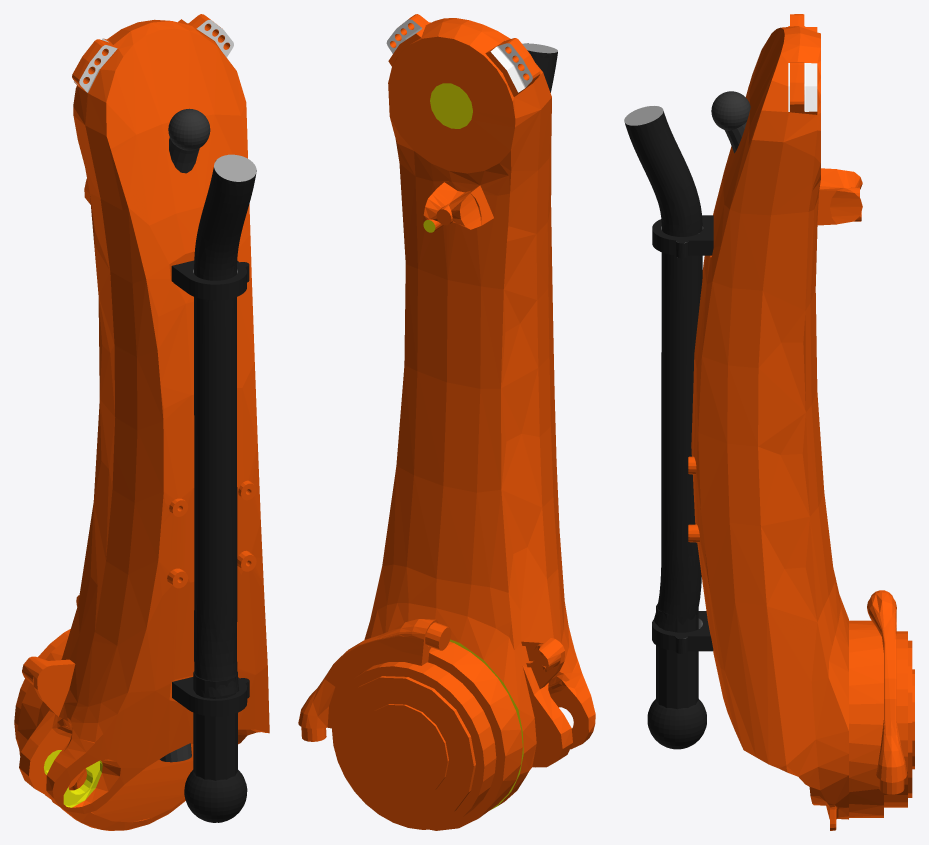
3 renders of one model, left to right at view 1: azimuth 30°, elevation 25°; view 2: azimuth 150°, elevation 25°; view 3: azimuth 270°, elevation 25°, orthographic. The views are drawn at different scales.
Visible parts, largest first — view 1: link_2, Default_1_ez.rf_ez_a2_2.3ds_ez_a2_2.3ds_schlauch_ext_A2_long, _ez_a2_2.3ds_schlauch_ext_A2_long.3ds, Default_28_ez.rf_ez_a2_2.3ds_ez_a2_2.3ds_schlauch_ext_A2_lon, Default_20_ez.rf_ez_a2_2.3ds_ez_a2_2.3ds_schlauch_ext_A2_lon, Default_11_ez.rf_ez_a2_2.3ds_ez_a2_2.3ds_schlauch_ext_A2_lon, Default_16_ez.rf_ez_a2_2.3ds_ez_a2_2.3ds_schlauch_ext_A2_lon, Default_23_ez.rf_ez_a2_2.3ds_ez_a2_2.3ds_schlauch_ext_A2_lon, Default_7_ez.rf_ez_a2_2.3ds_ez_a2_2.3ds_schlauch_ext_A2_long; view 2: link_2, Default_1_ez.rf_ez_a2_2.3ds_ez_a2_2.3ds_schlauch_ext_A2_long; view 3: link_2, Default_1_ez.rf_ez_a2_2.3ds_ez_a2_2.3ds_schlauch_ext_A2_long, _ez_a2_2.3ds_schlauch_ext_A2_long.3ds, Default_28_ez.rf_ez_a2_2.3ds_ez_a2_2.3ds_schlauch_ext_A2_lon, Default_20_ez.rf_ez_a2_2.3ds_ez_a2_2.3ds_schlauch_ext_A2_lon, Default_11_ez.rf_ez_a2_2.3ds_ez_a2_2.3ds_schlauch_ext_A2_lon, Default_16_ez.rf_ez_a2_2.3ds_ez_a2_2.3ds_schlauch_ext_A2_lon.
Part boxes in pixels (left/top/right/bottom): link_2: left=14, top=14, right=269, bottom=830; Default_1_ez.rf_ez_a2_2.3ds_ez_a2_2.3ds_schlauch_ext_A2_long: left=194, top=167, right=256, bottom=697; _ez_a2_2.3ds_schlauch_ext_A2_long.3ds: left=193, top=671, right=237, bottom=780; Default_28_ez.rf_ez_a2_2.3ds_ez_a2_2.3ds_schlauch_ext_A2_lon: left=184, top=770, right=247, bottom=822; Default_20_ez.rf_ez_a2_2.3ds_ez_a2_2.3ds_schlauch_ext_A2_lon: left=171, top=262, right=249, bottom=300; Default_11_ez.rf_ez_a2_2.3ds_ez_a2_2.3ds_schlauch_ext_A2_lon: left=172, top=678, right=249, bottom=716; Default_16_ez.rf_ez_a2_2.3ds_ez_a2_2.3ds_schlauch_ext_A2_lon: left=172, top=260, right=249, bottom=284; Default_23_ez.rf_ez_a2_2.3ds_ez_a2_2.3ds_schlauch_ext_A2_lon: left=214, top=154, right=254, bottom=181; Default_7_ez.rf_ez_a2_2.3ds_ez_a2_2.3ds_schlauch_ext_A2_long: left=172, top=677, right=249, bottom=700; link_2: left=298, top=14, right=595, bottom=830; Default_1_ez.rf_ez_a2_2.3ds_ez_a2_2.3ds_schlauch_ext_A2_long: left=527, top=43, right=557, bottom=92; link_2: left=688, top=14, right=914, bottom=830; Default_1_ez.rf_ez_a2_2.3ds_ez_a2_2.3ds_schlauch_ext_A2_long: left=625, top=111, right=702, bottom=631; _ez_a2_2.3ds_schlauch_ext_A2_long.3ds: left=656, top=603, right=698, bottom=709; Default_28_ez.rf_ez_a2_2.3ds_ez_a2_2.3ds_schlauch_ext_A2_lon: left=647, top=699, right=706, bottom=749; Default_20_ez.rf_ez_a2_2.3ds_ez_a2_2.3ds_schlauch_ext_A2_lon: left=652, top=230, right=713, bottom=258; Default_11_ez.rf_ez_a2_2.3ds_ez_a2_2.3ds_schlauch_ext_A2_lon: left=652, top=625, right=713, bottom=653; Default_16_ez.rf_ez_a2_2.3ds_ez_a2_2.3ds_schlauch_ext_A2_lon: left=652, top=215, right=713, bottom=243.
Size of the model in its own units: 0.5317 by 0.5814 by 1.71.
